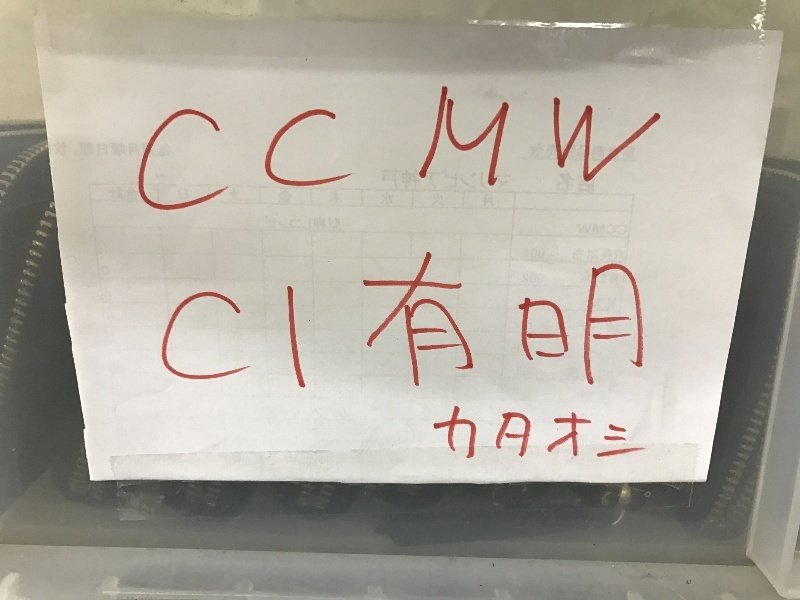text: (369, 250, 384, 390), (385, 250, 400, 390), (401, 250, 416, 390), (417, 250, 432, 390), (433, 250, 448, 390), (449, 250, 464, 390), (465, 250, 480, 390), (481, 250, 496, 390), (497, 250, 512, 390), (513, 250, 528, 390), (529, 250, 544, 390), (545, 250, 560, 390), (561, 250, 576, 390), (577, 250, 592, 390), (593, 250, 608, 390), (609, 250, 624, 390), (625, 250, 640, 390), (433, 84, 448, 201), (449, 84, 464, 201), (465, 84, 480, 201), (481, 84, 496, 201), (497, 84, 512, 201), (513, 84, 528, 201), (529, 84, 544, 201), (545, 84, 560, 201), (561, 84, 576, 201), (577, 84, 592, 201), (593, 84, 608, 201), (609, 84, 624, 201), (625, 84, 640, 201), (641, 84, 656, 201), (145, 108, 160, 217), (161, 108, 176, 217), (177, 108, 192, 217), (193, 108, 208, 217), (209, 108, 224, 217), (225, 108, 240, 217), (241, 108, 256, 217), (257, 108, 272, 217), (273, 108, 288, 217), (289, 108, 304, 217), (305, 108, 320, 217), (321, 108, 336, 217), (337, 108, 352, 217), (177, 285, 192, 390), (193, 285, 208, 390), (209, 285, 224, 390), (225, 285, 240, 390), (241, 285, 256, 390), (257, 285, 272, 390), (273, 285, 288, 390), (289, 285, 304, 390), (422, 84, 432, 201), (305, 285, 315, 390), (135, 108, 144, 217), (641, 250, 648, 390), (657, 84, 665, 201), (433, 407, 448, 469), (449, 407, 464, 469), (465, 407, 480, 469), (481, 407, 496, 469), (497, 407, 512, 469), (513, 407, 528, 469), (529, 407, 544, 469), (545, 407, 560, 469), (561, 407, 576, 469), (577, 407, 592, 469), (593, 407, 608, 469), (609, 407, 624, 469), (625, 407, 640, 469), (363, 250, 368, 390), (353, 108, 358, 217), (641, 407, 649, 469), (172, 285, 176, 390), (431, 407, 432, 469)
